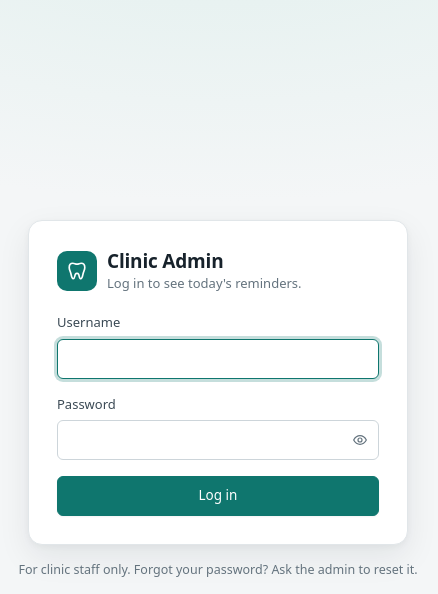
Test: login › shows the password only while the eye is pressed
In the password field labelled "Password": [218, 440] box x1=57 y1=420 x2=379 y2=460, type "secret-123"
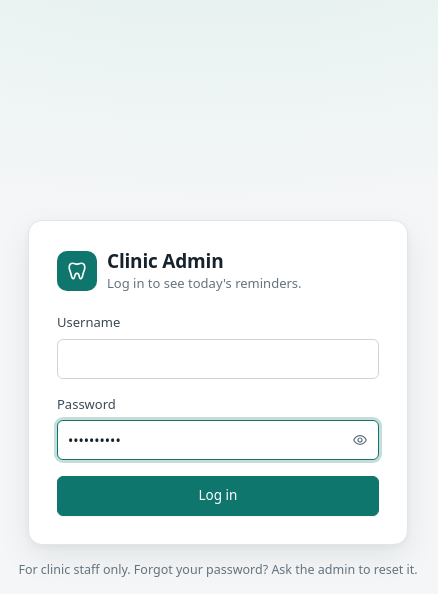
Click the button named "Show password": [360, 440] box x1=345 y1=425 x2=375 y2=455
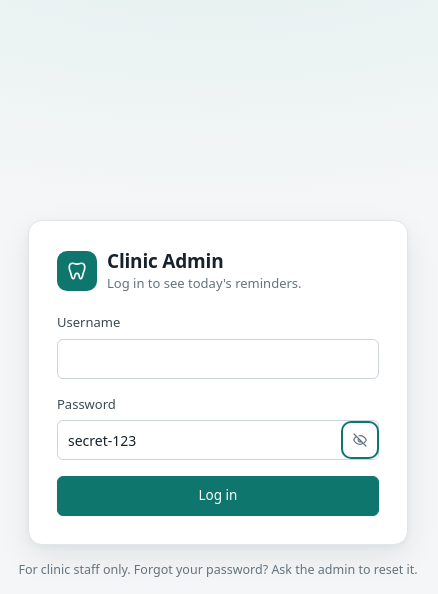
Expected: the field labelled "Password" shows its text, x1=57 y1=420 x2=379 y2=460
Click the button named "Hide password": [360, 440] box x1=345 y1=425 x2=375 y2=455
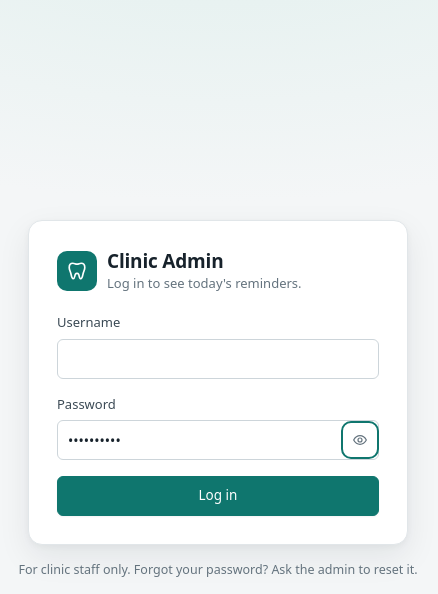
Expected: the password field labelled "Password" hides its text, x1=57 y1=420 x2=379 y2=460
